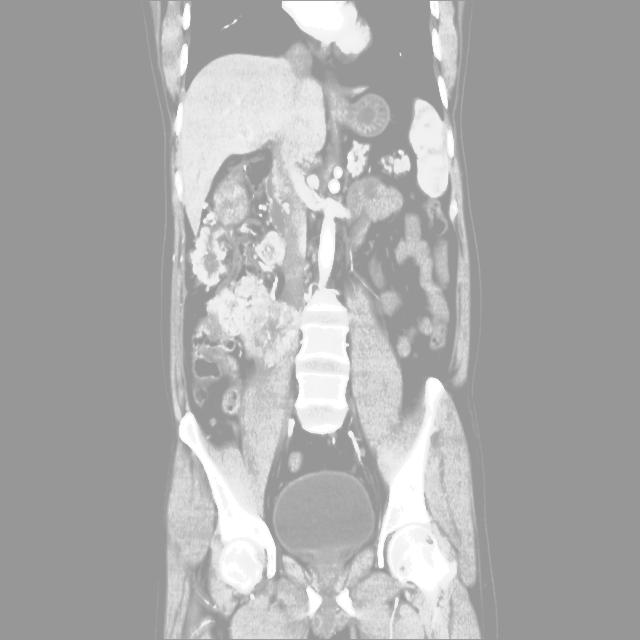TUMOR: (132, 228, 573, 497)
